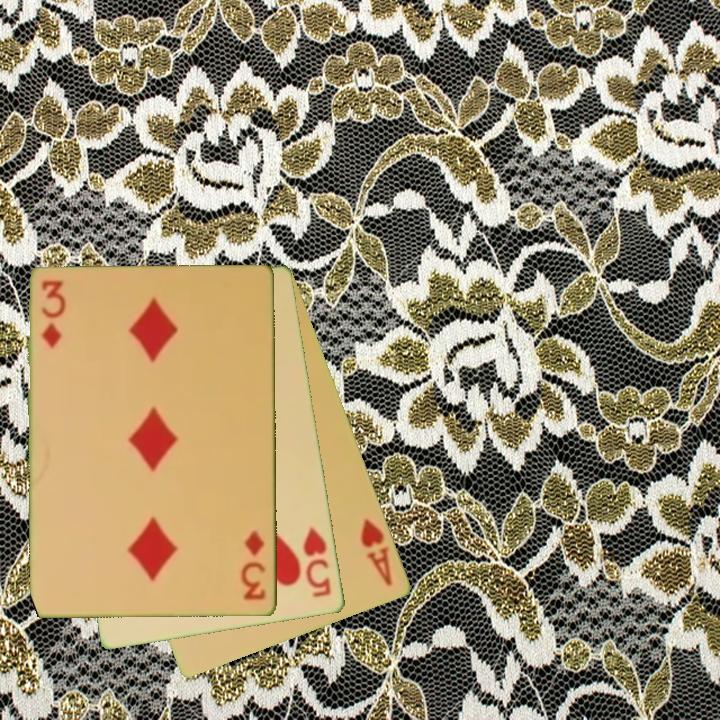3d: (239, 527, 269, 603), (38, 277, 65, 352)
5h: (300, 523, 334, 601)
Ah: (357, 514, 396, 589)
